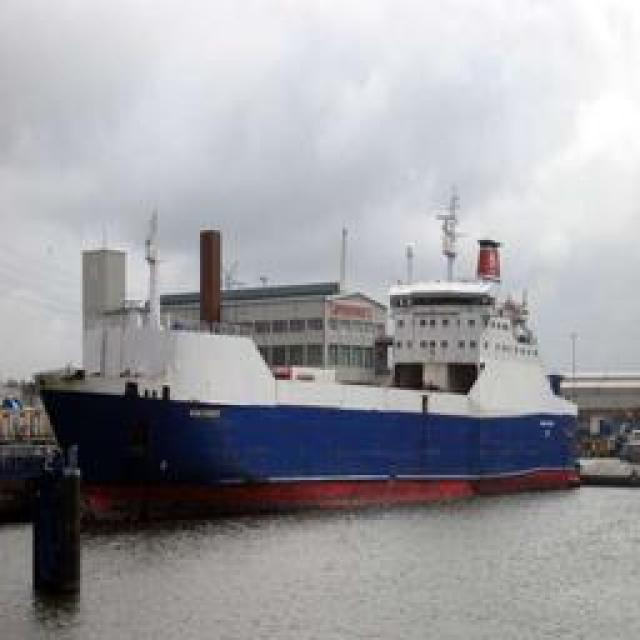ship2: (35, 219, 581, 526)
